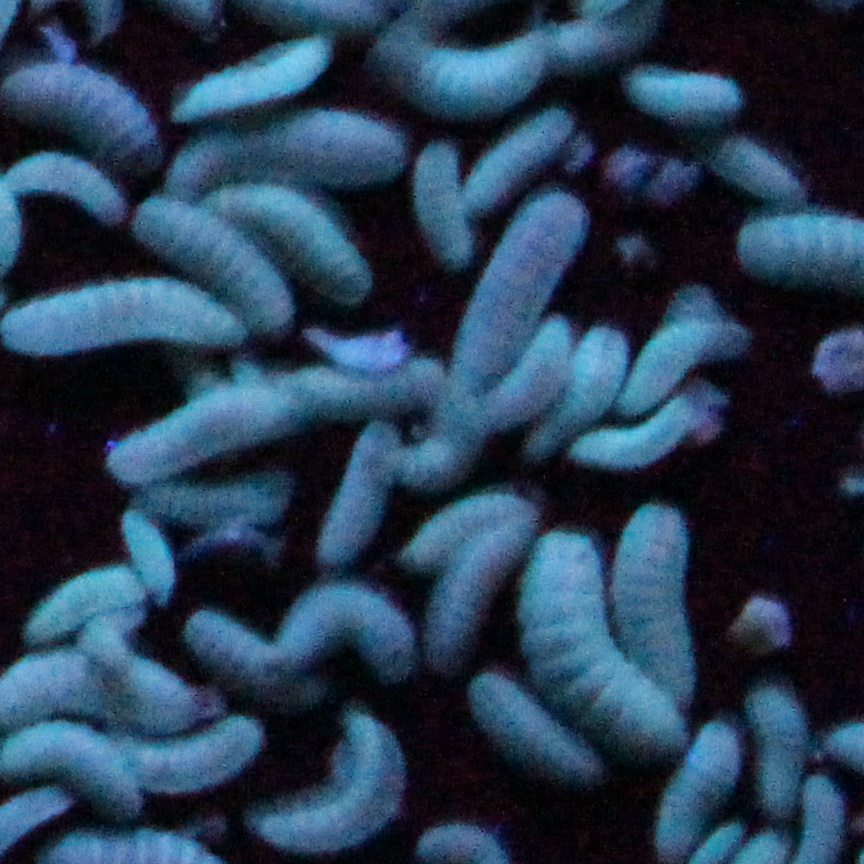larve: (397, 197, 576, 494), (520, 535, 658, 755), (112, 380, 304, 483), (212, 184, 372, 302), (145, 203, 295, 328), (272, 720, 413, 843), (172, 115, 400, 190), (371, 26, 550, 117), (429, 511, 529, 668), (0, 283, 226, 350), (469, 679, 599, 783), (311, 425, 398, 569), (623, 515, 698, 675), (271, 348, 438, 419), (182, 38, 324, 117), (619, 305, 719, 411), (276, 597, 416, 672), (122, 725, 265, 794), (192, 614, 297, 706), (410, 148, 480, 283), (490, 327, 578, 432), (574, 404, 703, 470), (477, 112, 566, 205), (8, 152, 120, 220), (624, 62, 741, 127), (32, 570, 143, 635), (747, 678, 800, 808), (701, 138, 802, 201), (138, 484, 290, 525), (116, 511, 179, 603), (673, 723, 716, 845)
